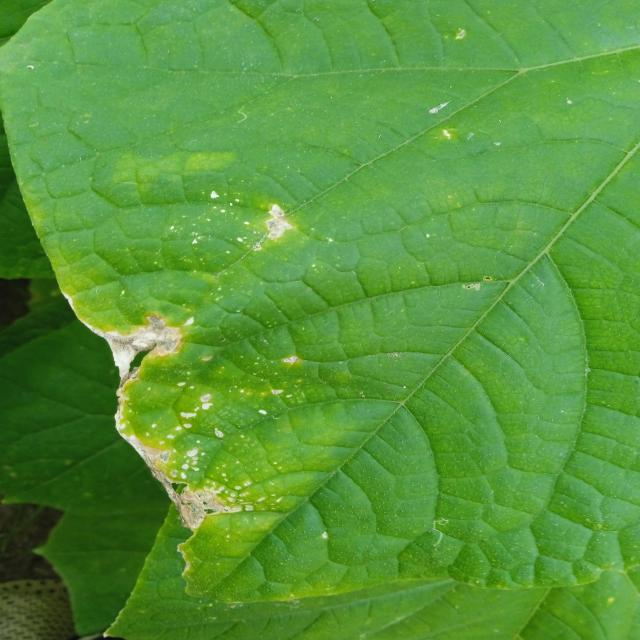cucumber_anthracnose: (20, 106, 322, 586)
